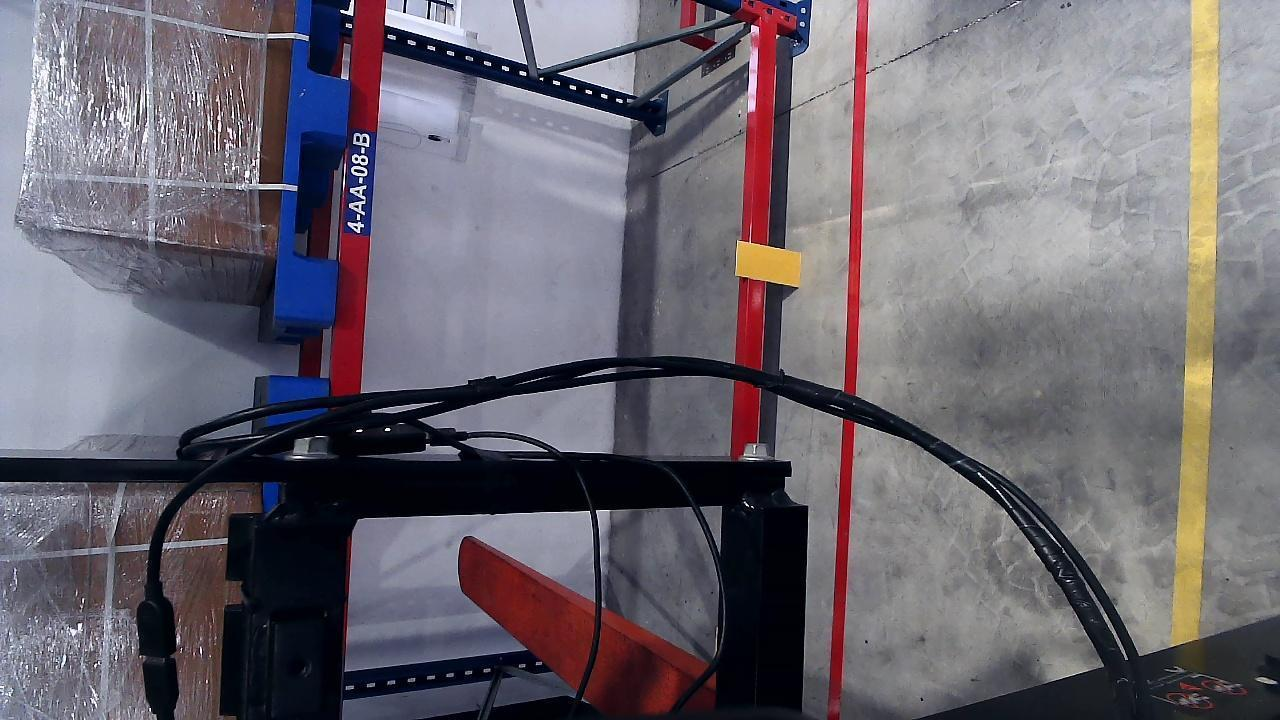red_line: (831, 2, 868, 715)
yellow_line: (1177, 0, 1221, 653)
